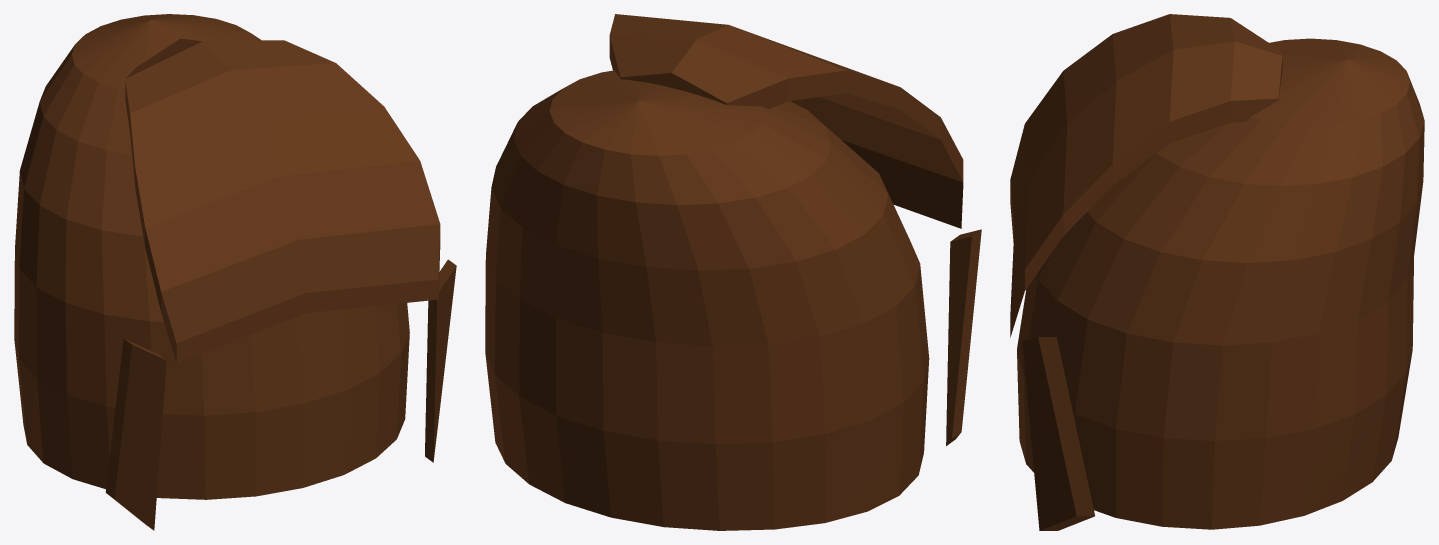
Rendered from hair_boy_pompadour_01.glb.
3 views of the same model, side by side, from view 1: azimuth 30°, elevation 25°; view 2: azimuth 150°, elevation 25°; view 3: azimuth 270°, elevation 25° (orthographic). The views are drawn at different scales.
Visible parts, largest first — view 1: Pompadour_Cap, Pompadour_Front_Sweep, Pompadour_Side_Lock_L, Pompadour_Side_Lock_R; view 2: Pompadour_Cap, Pompadour_Front_Sweep, Pompadour_Side_Lock_L; view 3: Pompadour_Cap, Pompadour_Front_Sweep, Pompadour_Side_Lock_R.
Boxes of the visible parts, box(x1,y1,x2,y2) form: Pompadour_Cap: box(14, 14, 409, 499); Pompadour_Front_Sweep: box(125, 38, 440, 363); Pompadour_Side_Lock_L: box(105, 338, 166, 530); Pompadour_Side_Lock_R: box(425, 259, 456, 462); Pompadour_Cap: box(485, 70, 929, 530); Pompadour_Front_Sweep: box(609, 14, 963, 228); Pompadour_Side_Lock_L: box(946, 229, 981, 445); Pompadour_Cap: box(1017, 38, 1424, 529); Pompadour_Front_Sweep: box(1010, 14, 1282, 337); Pompadour_Side_Lock_R: box(1022, 337, 1094, 530).
Bounding box in the file's own units: 0.326 × 0.346 × 0.312.
